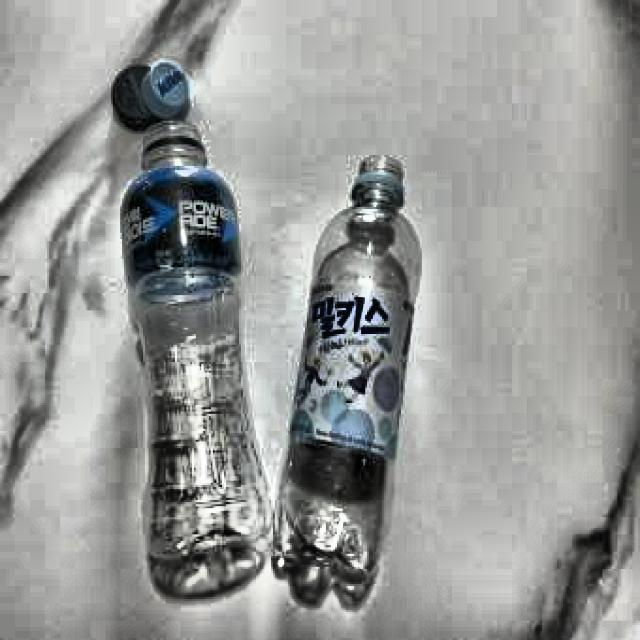Bottles: (98, 63, 277, 605), (269, 111, 430, 606)
